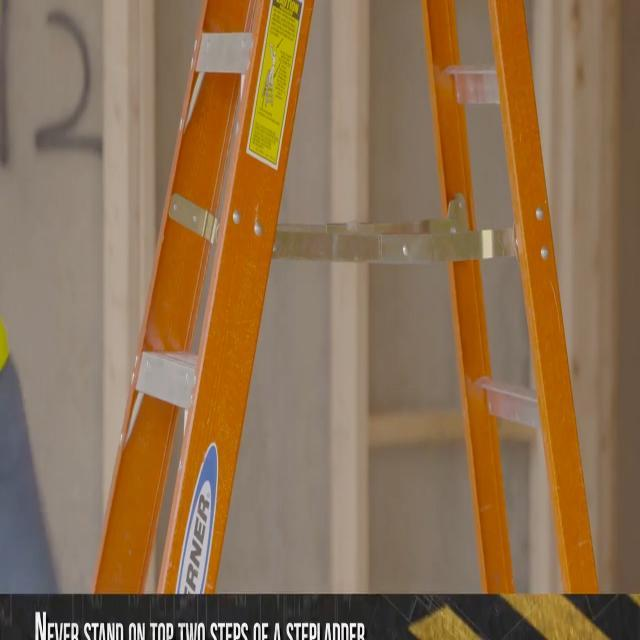vest: (0, 318, 11, 374)
